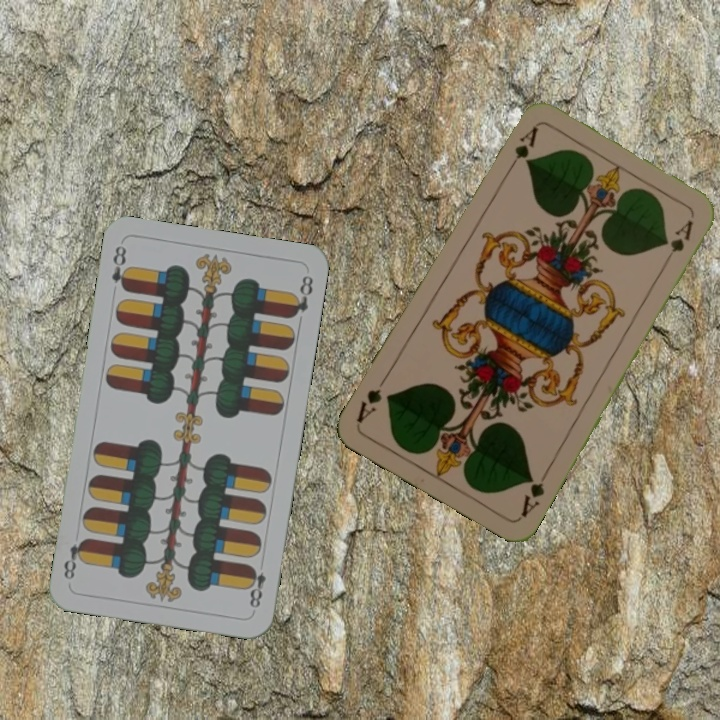E8: (107, 241, 133, 294), (243, 562, 269, 611)
GA: (503, 122, 541, 176), (517, 465, 550, 520)
